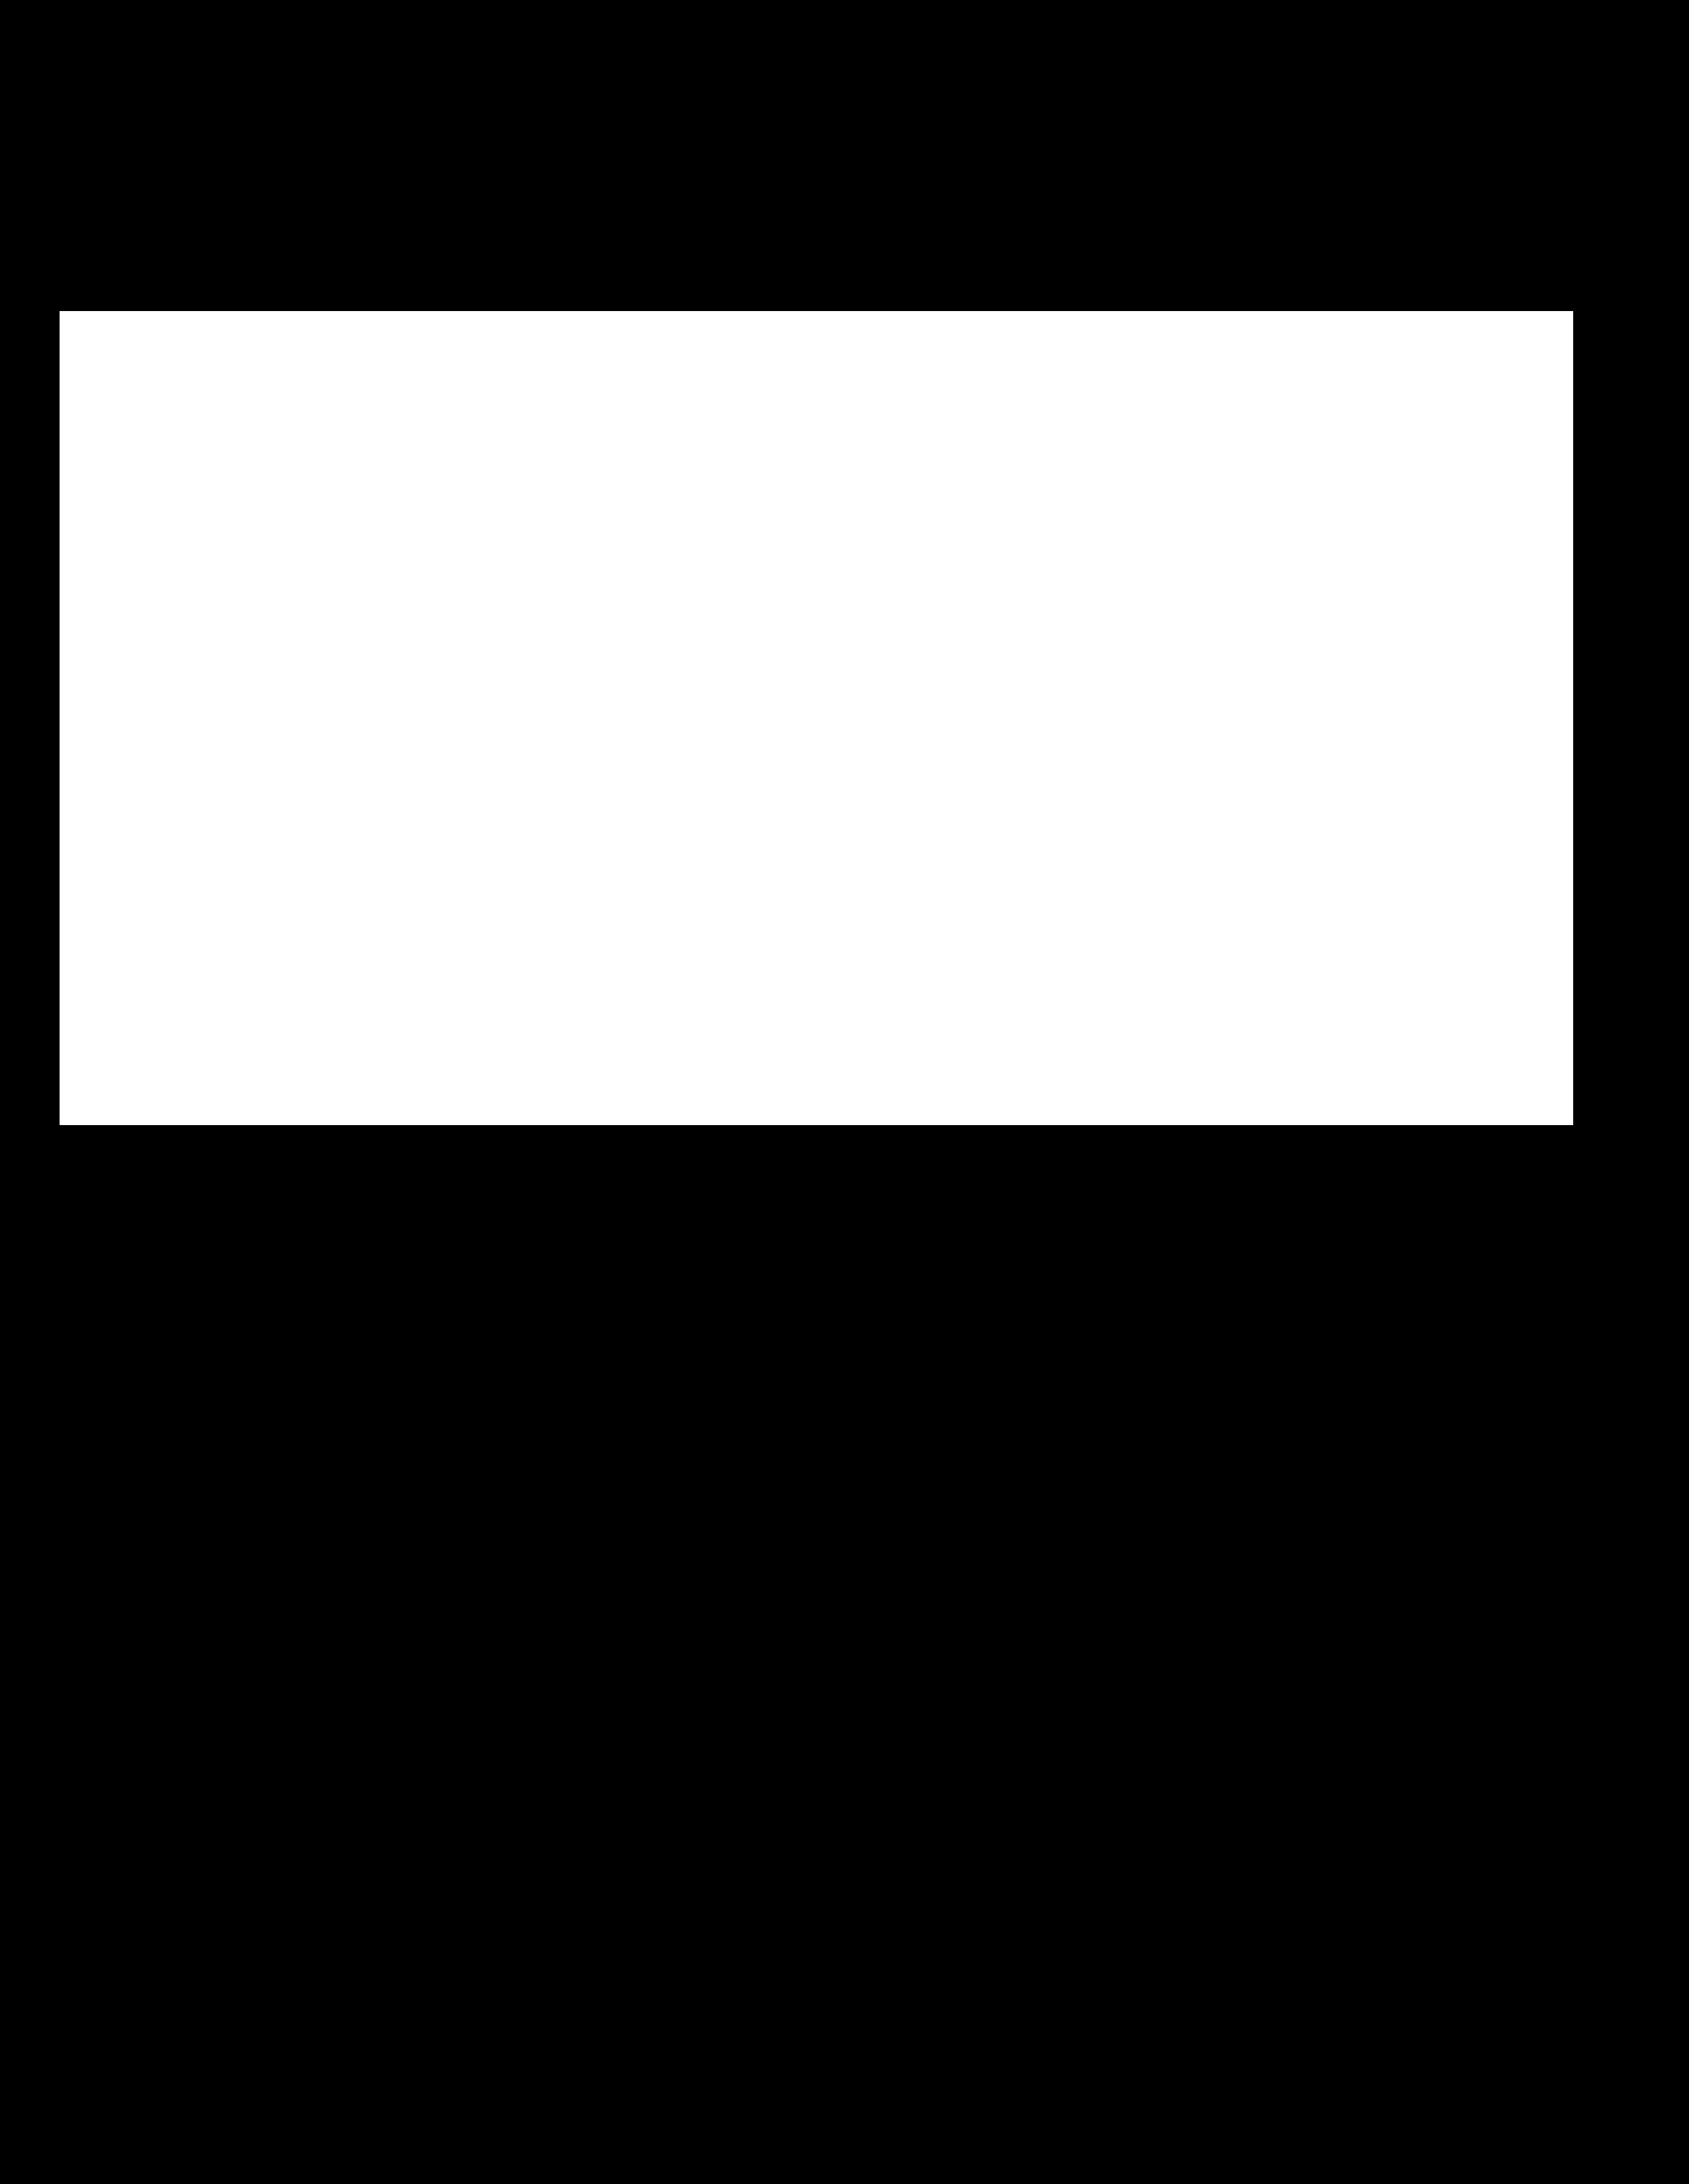table: (60, 310, 1572, 1124)
